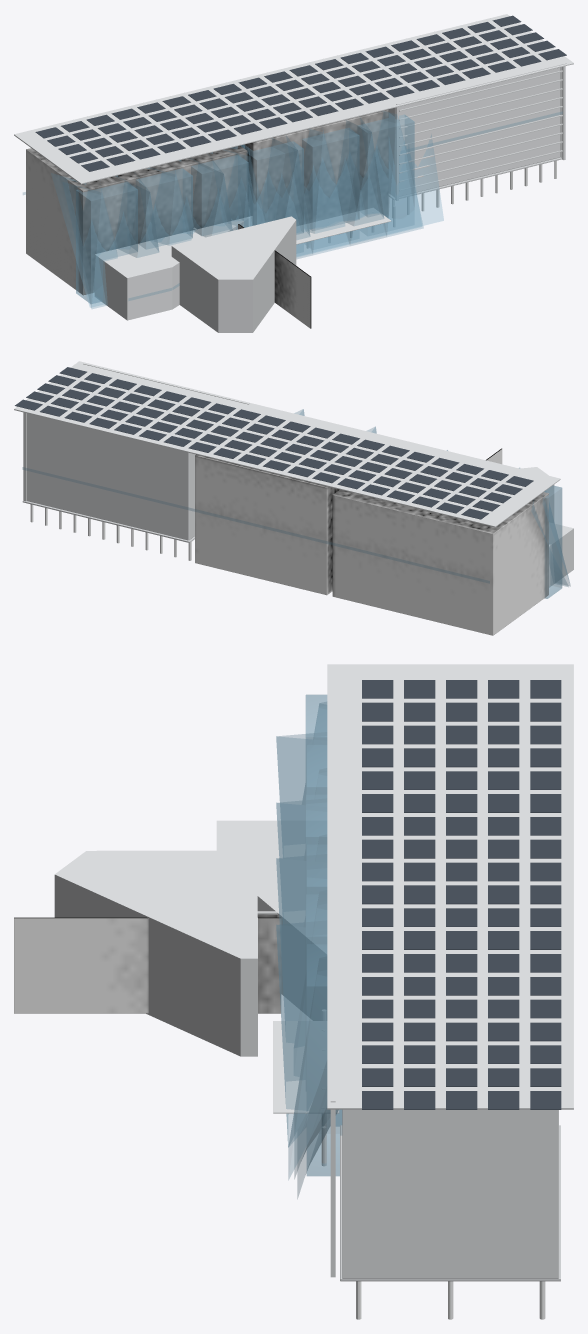
File: building.glb
3 renders of one model, top to bottom at view 1: azimuth 30°, elevation 25°; view 2: azimuth 150°, elevation 25°; view 3: azimuth 270°, elevation 25°, orthographic. The views are drawn at different scales.
Visible parts, largest first — view 1: CityHallOpaque, CityHallGlass; view 2: CityHallOpaque, CityHallGlass; view 3: CityHallOpaque, CityHallGlass.
Boxes of the visible parts, x1,y1,x2,y2 form: CityHallOpaque: (14, 14, 573, 332); CityHallGlass: (23, 111, 562, 308); CityHallOpaque: (14, 361, 573, 635); CityHallGlass: (22, 409, 570, 598); CityHallOpaque: (14, 664, 573, 1319); CityHallGlass: (276, 694, 342, 1198).
Bounding box in the file's own units: 176 × 40.55 × 93.26.
Materials: 7 (1 with a texture image).
